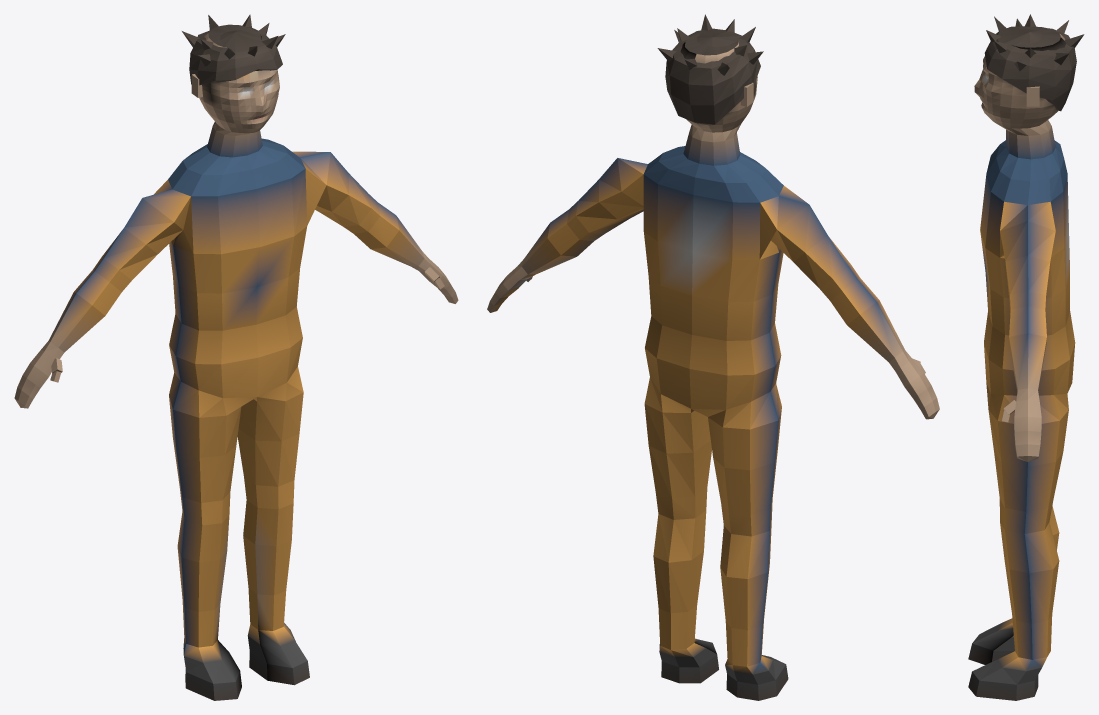
Rendered from char__pessoa__piloto_h01.glb.
3 views of the same model, side by side, from view 1: azimuth 30°, elevation 25°; view 2: azimuth 150°, elevation 25°; view 3: azimuth 270°, elevation 25° (orthographic).
Visible parts, largest first — view 1: char__pessoa__piloto_h01; view 2: char__pessoa__piloto_h01; view 3: char__pessoa__piloto_h01.
Part boxes in pixels (x1,y1,x2,y2): char__pessoa__piloto_h01: (14,14,458,700); char__pessoa__piloto_h01: (487,14,939,700); char__pessoa__piloto_h01: (968,14,1084,700).
Size of the model in its own units: 1.27 by 1.8 by 0.2926.
